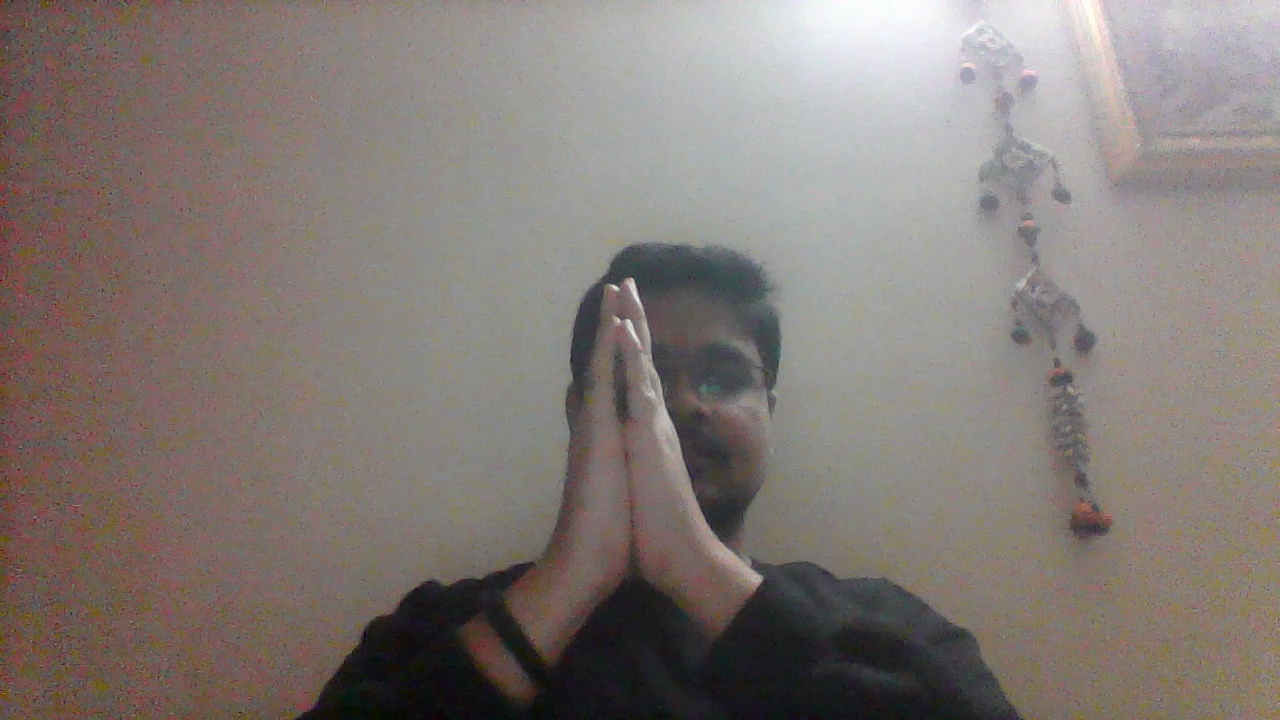Namaste: (552, 277, 709, 622)
